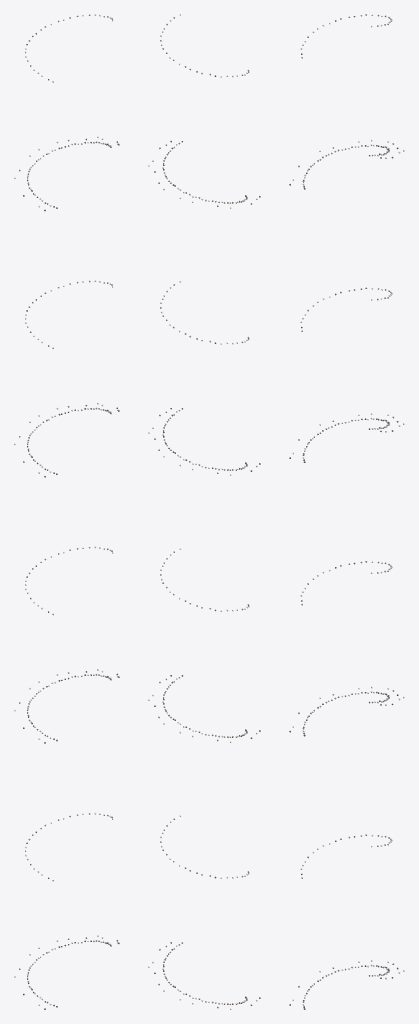
File: Circle1Crowd2Heads.obj
3 renders of one model, left to right at view 1: azimuth 30°, elevation 25°; view 2: azimuth 150°, elevation 25°; view 3: azimuth 330°, elevation 25°, orthographic. The views are drawn at different scales.
Parts seen in each view (by area): view 1: Circle1Crowd2Heads; view 2: Circle1Crowd2Heads; view 3: Circle1Crowd2Heads.
Part boxes in pixels (x1,y1,x2,y2): Circle1Crowd2Heads: [14, 14, 119, 1009]; Circle1Crowd2Heads: [148, 14, 260, 1009]; Circle1Crowd2Heads: [289, 14, 404, 1009].
Size of the model in its own units: 29.45 by 291 by 23.67.
Materials: 1 (1 with a texture image).
